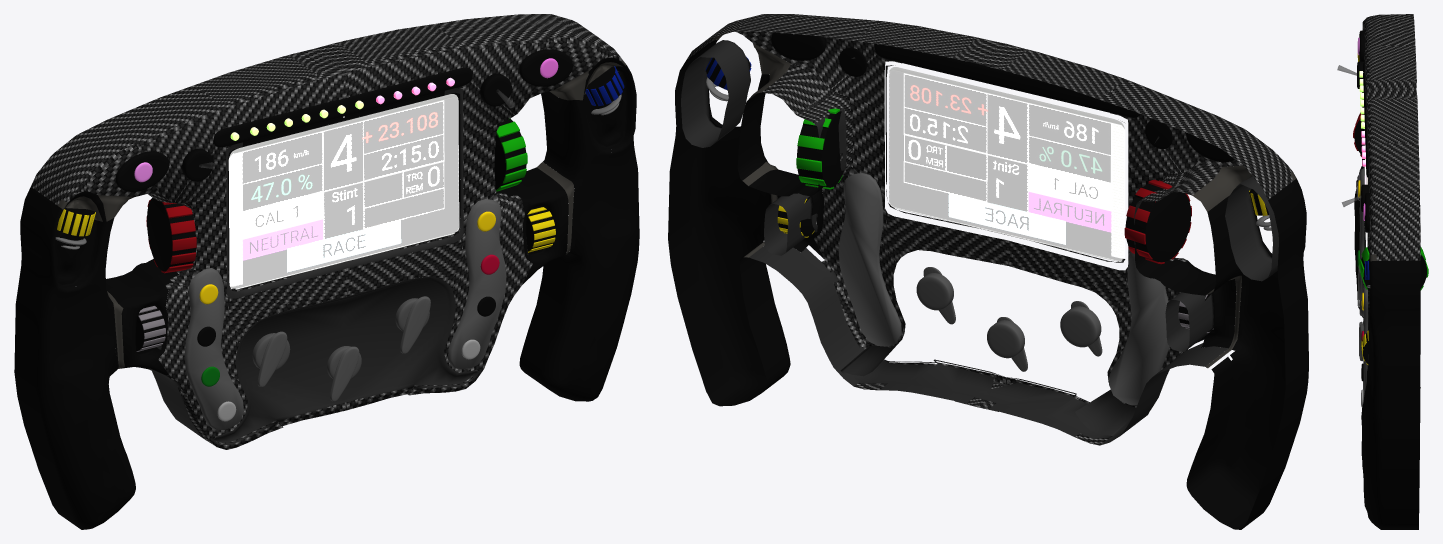
File: steeringwheel.glb
3 renders of one model, left to right at view 1: azimuth 30°, elevation 25°; view 2: azimuth 150°, elevation 25°; view 3: azimuth 270°, elevation 25°, orthographic. The views are drawn at different scales.
Parts seen in each view (by area): view 1: Plane, Plane.006, Plane.004, Plane.003, Cube, Cylinder.007, Cylinder.012, Cylinder.013, Cylinder.019, Cylinder.005, Cylinder.006, Cylinder.018 (+6 smaller); view 2: Plane, Plane.006, Plane.004, Plane.003, Cylinder.007, Cube, Cylinder.012, Cylinder.001, Cylinder.019, Cylinder.002, Cylinder.003; view 3: Plane, Cylinder.012, Plane.003, Plane.004, Cube, Cylinder.007, Cylinder.006, Cylinder.019, Cylinder.013, Cylinder.023.
Boxes of the visible parts, <box> form: Plane: <box>14,14,639,529</box>; Plane.006: <box>228,94,459,289</box>; Plane.004: <box>448,199,506,369</box>; Plane.003: <box>184,268,243,430</box>; Cube: <box>213,67,472,147</box>; Cylinder.007: <box>146,197,196,273</box>; Cylinder.012: <box>494,118,527,191</box>; Cylinder.013: <box>115,151,169,191</box>; Cylinder.019: <box>519,49,572,86</box>; Cylinder.005: <box>135,306,165,351</box>; Cylinder.006: <box>526,207,555,252</box>; Cylinder.018: <box>585,66,624,105</box>; Plane: <box>668,14,1308,529</box>; Plane.006: <box>889,67,1125,261</box>; Plane.004: <box>838,173,901,346</box>; Plane.003: <box>1109,251,1169,405</box>; Cylinder.007: <box>1124,179,1191,264</box>; Cube: <box>874,44,1140,117</box>; Cylinder.012: <box>796,108,843,189</box>; Cylinder.001: <box>1060,306,1101,347</box>; Cylinder.019: <box>771,32,825,60</box>; Cylinder.002: <box>987,320,1024,358</box>; Cylinder.003: <box>916,273,953,310</box>; Plane: <box>1354,14,1420,529</box>; Cylinder.012: <box>1359,245,1428,291</box>; Plane.003: <box>1359,168,1364,316</box>; Plane.004: <box>1363,285,1367,401</box>; Cube: <box>1363,62,1368,177</box>; Cylinder.007: <box>1353,112,1363,156</box>; Cylinder.006: <box>1361,330,1368,364</box>; Cylinder.019: <box>1364,193,1370,232</box>; Cylinder.013: <box>1359,30,1364,61</box>; Cylinder.023: <box>1361,184,1369,211</box>.
Size of the model in its own units: 2.47 by 1.56 by 0.3833.
51 materials, 3 textured.
